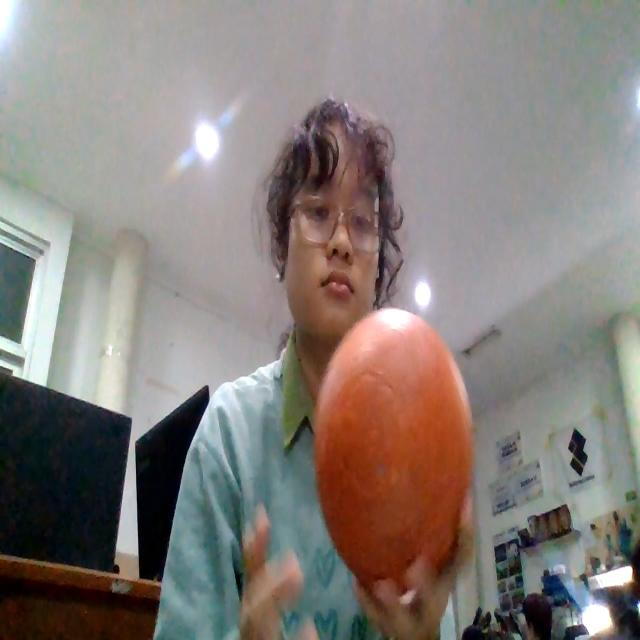ball: (312, 306, 474, 596)
